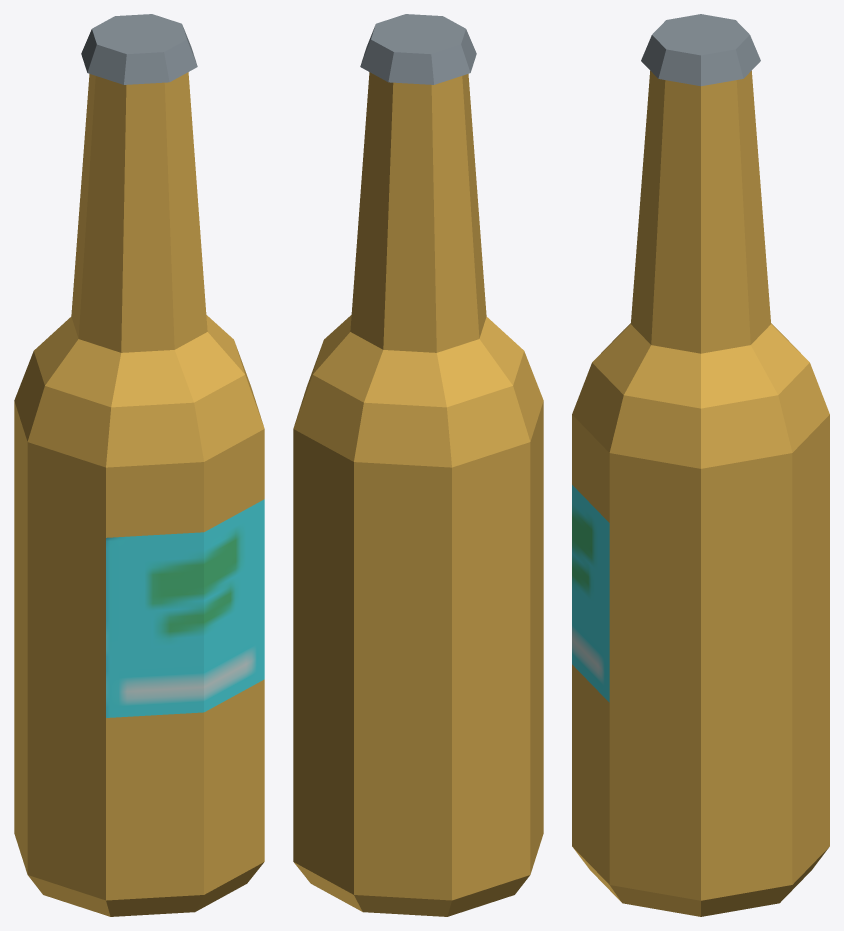
The model's file is SM_Prop_Bar_Bottle_01.obj.
3 views of the same model, side by side, from view 1: azimuth 30°, elevation 25°; view 2: azimuth 150°, elevation 25°; view 3: azimuth 270°, elevation 25° (orthographic).
Visible parts, largest first — view 1: SM_Prop_Bar_Bottle_01_0; view 2: SM_Prop_Bar_Bottle_01_0; view 3: SM_Prop_Bar_Bottle_01_0.
Part boxes in pixels (x1,y1,x2,y2): SM_Prop_Bar_Bottle_01_0: (14, 14, 264, 916); SM_Prop_Bar_Bottle_01_0: (293, 14, 543, 916); SM_Prop_Bar_Bottle_01_0: (572, 14, 829, 916).
Bounding box in the file's own units: 0.0938 × 0.3354 × 0.0939.
1 material, 1 textured.
